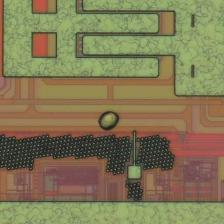COATING BAD: (98, 110, 121, 132)
